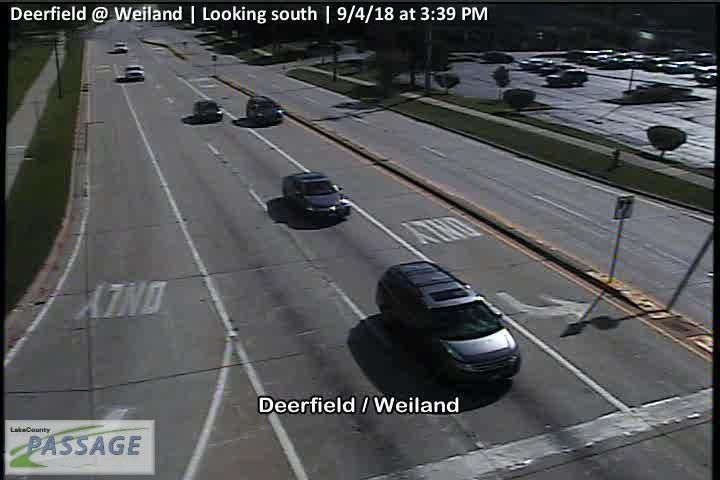SUV: (376, 261, 521, 380), (247, 96, 283, 126), (545, 68, 589, 85)
Sedan: (284, 171, 351, 222), (194, 100, 223, 121), (125, 64, 144, 78)
